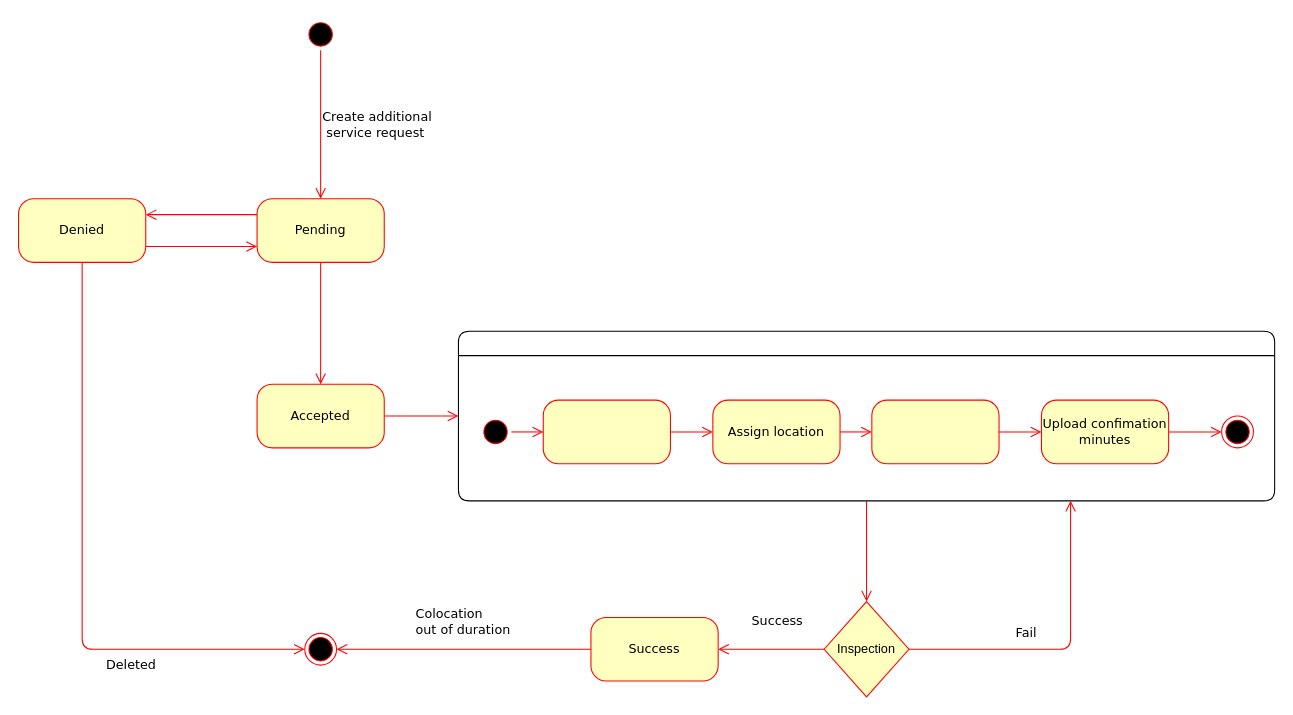
The diagram is 1293 pixels wide and 715 high, and some of its shapes have lost their labels. The shapes that lost their labels are listed below. From the top down, each one's box as (x1, y1, x2, y2) in pixels, then its label:
(542, 399, 670, 464): Fill server and additional services information
(457, 330, 1275, 501): Install server
(871, 399, 999, 464): Assign IP
